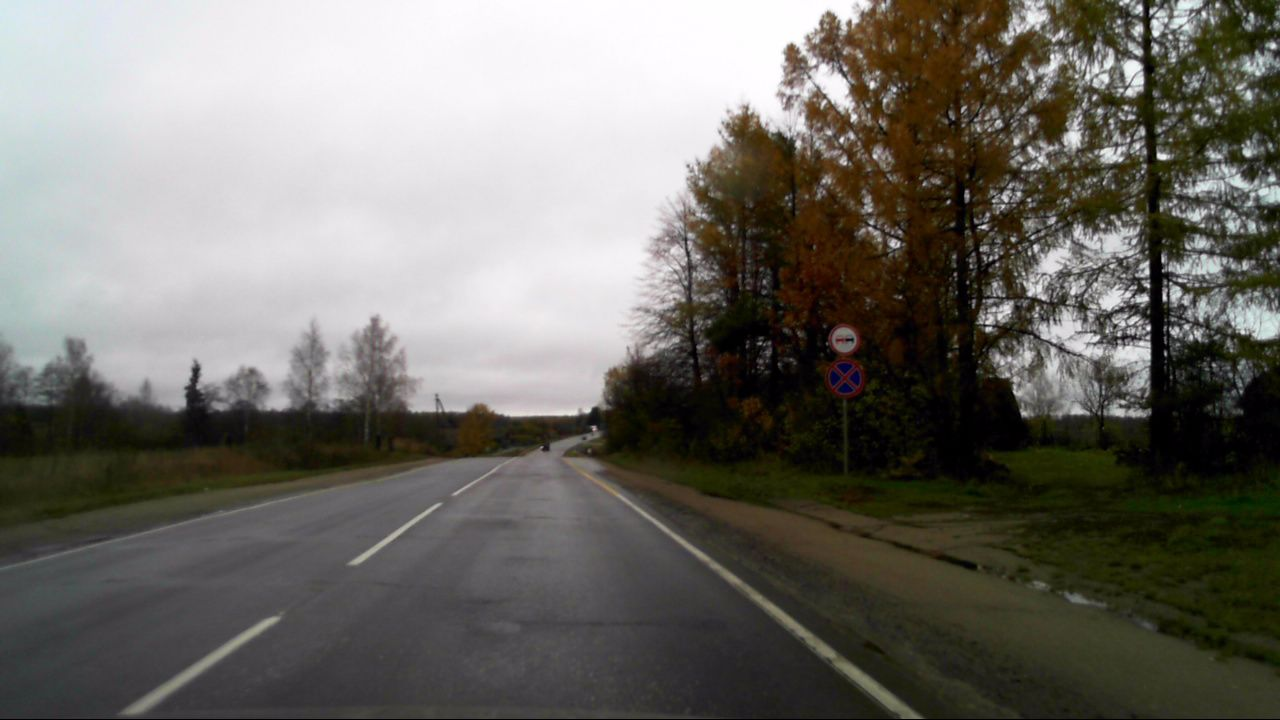No Parking: (823, 355, 868, 400)
